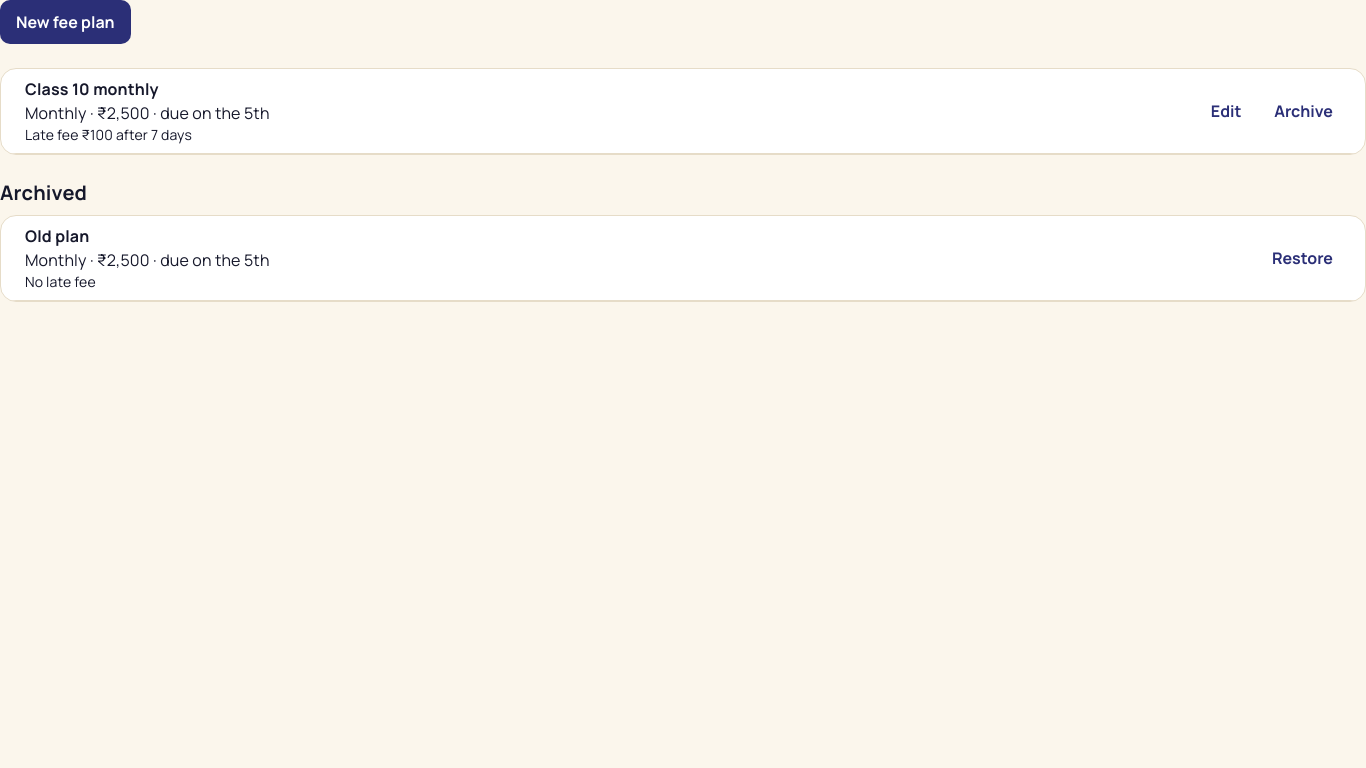
Test: FeePlans › edits a plan, starting from what it is
Click the button with aria-label "Edit Class 10 monthly": (1226, 111) [1194, 89, 1258, 133]
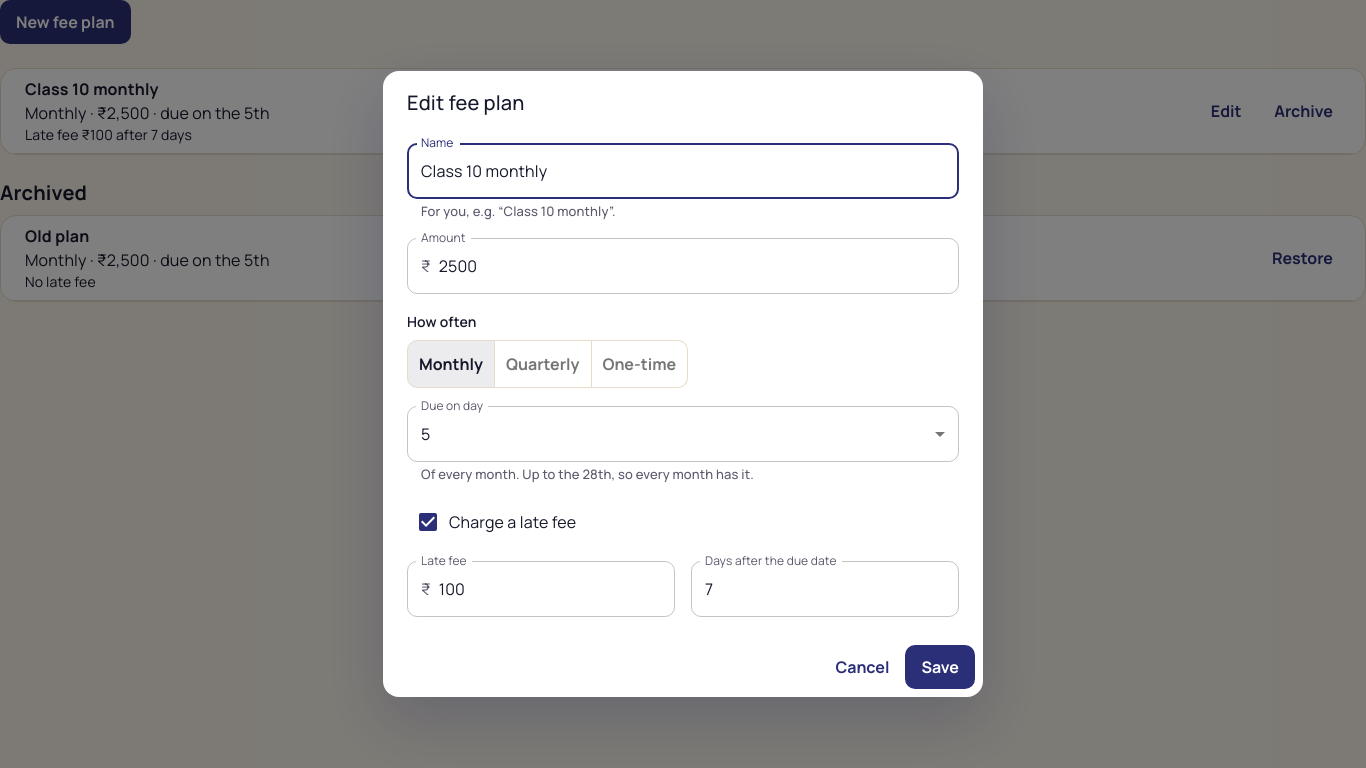
Result: the field labelled "Amount" holds "2500"
Result: the field labelled "Late fee" holds "100" at [439, 561, 675, 617]
Replace the text in the field labelled "Amount" with "3000": (699, 266) [439, 238, 959, 294]
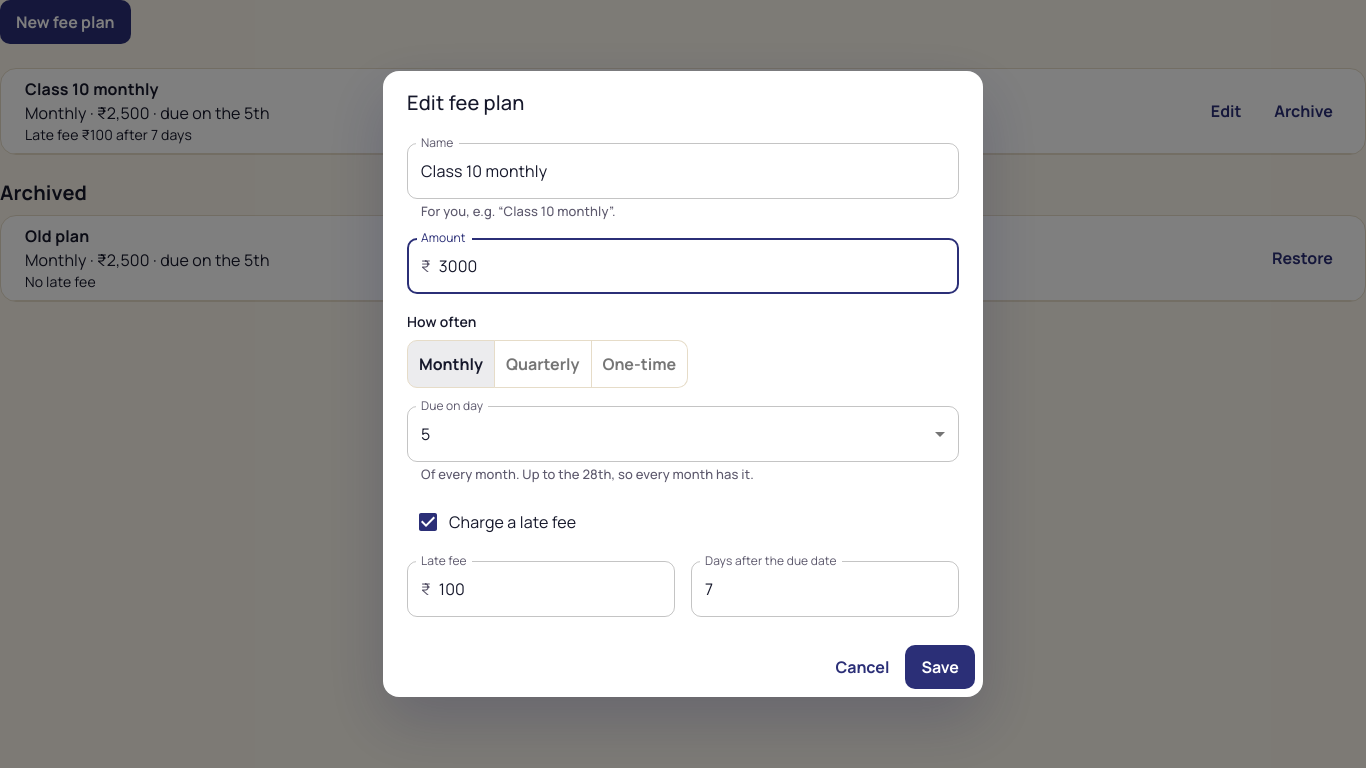
Click the button "Save": (940, 667) [905, 645, 975, 689]
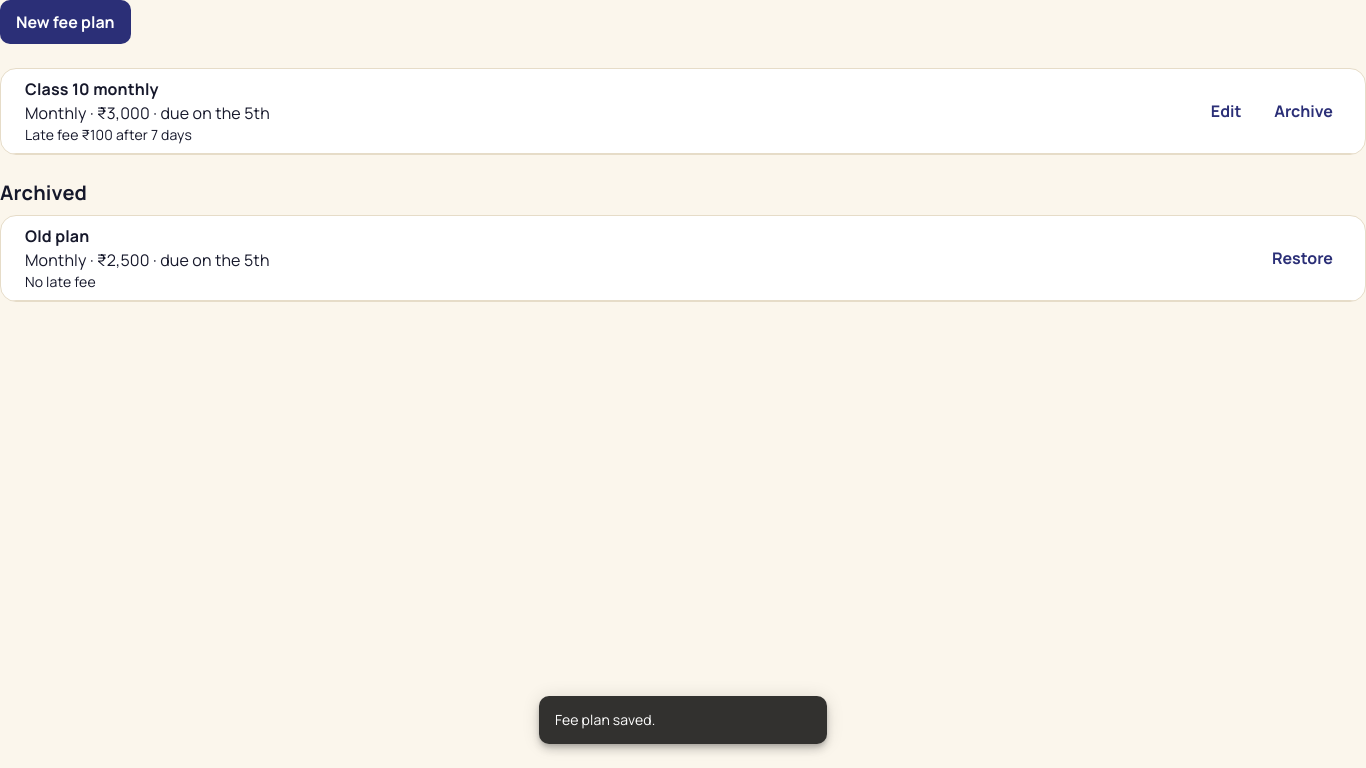
Result: the text "Monthly · ₹3,000 · due on the 5th" is shown at [25, 101, 270, 125]
